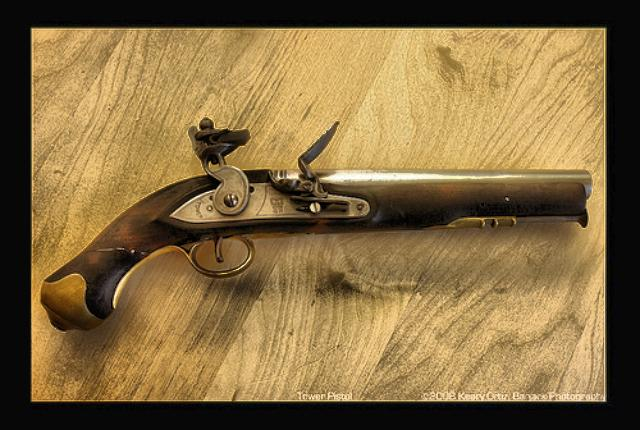pistol: (39, 112, 591, 329)
